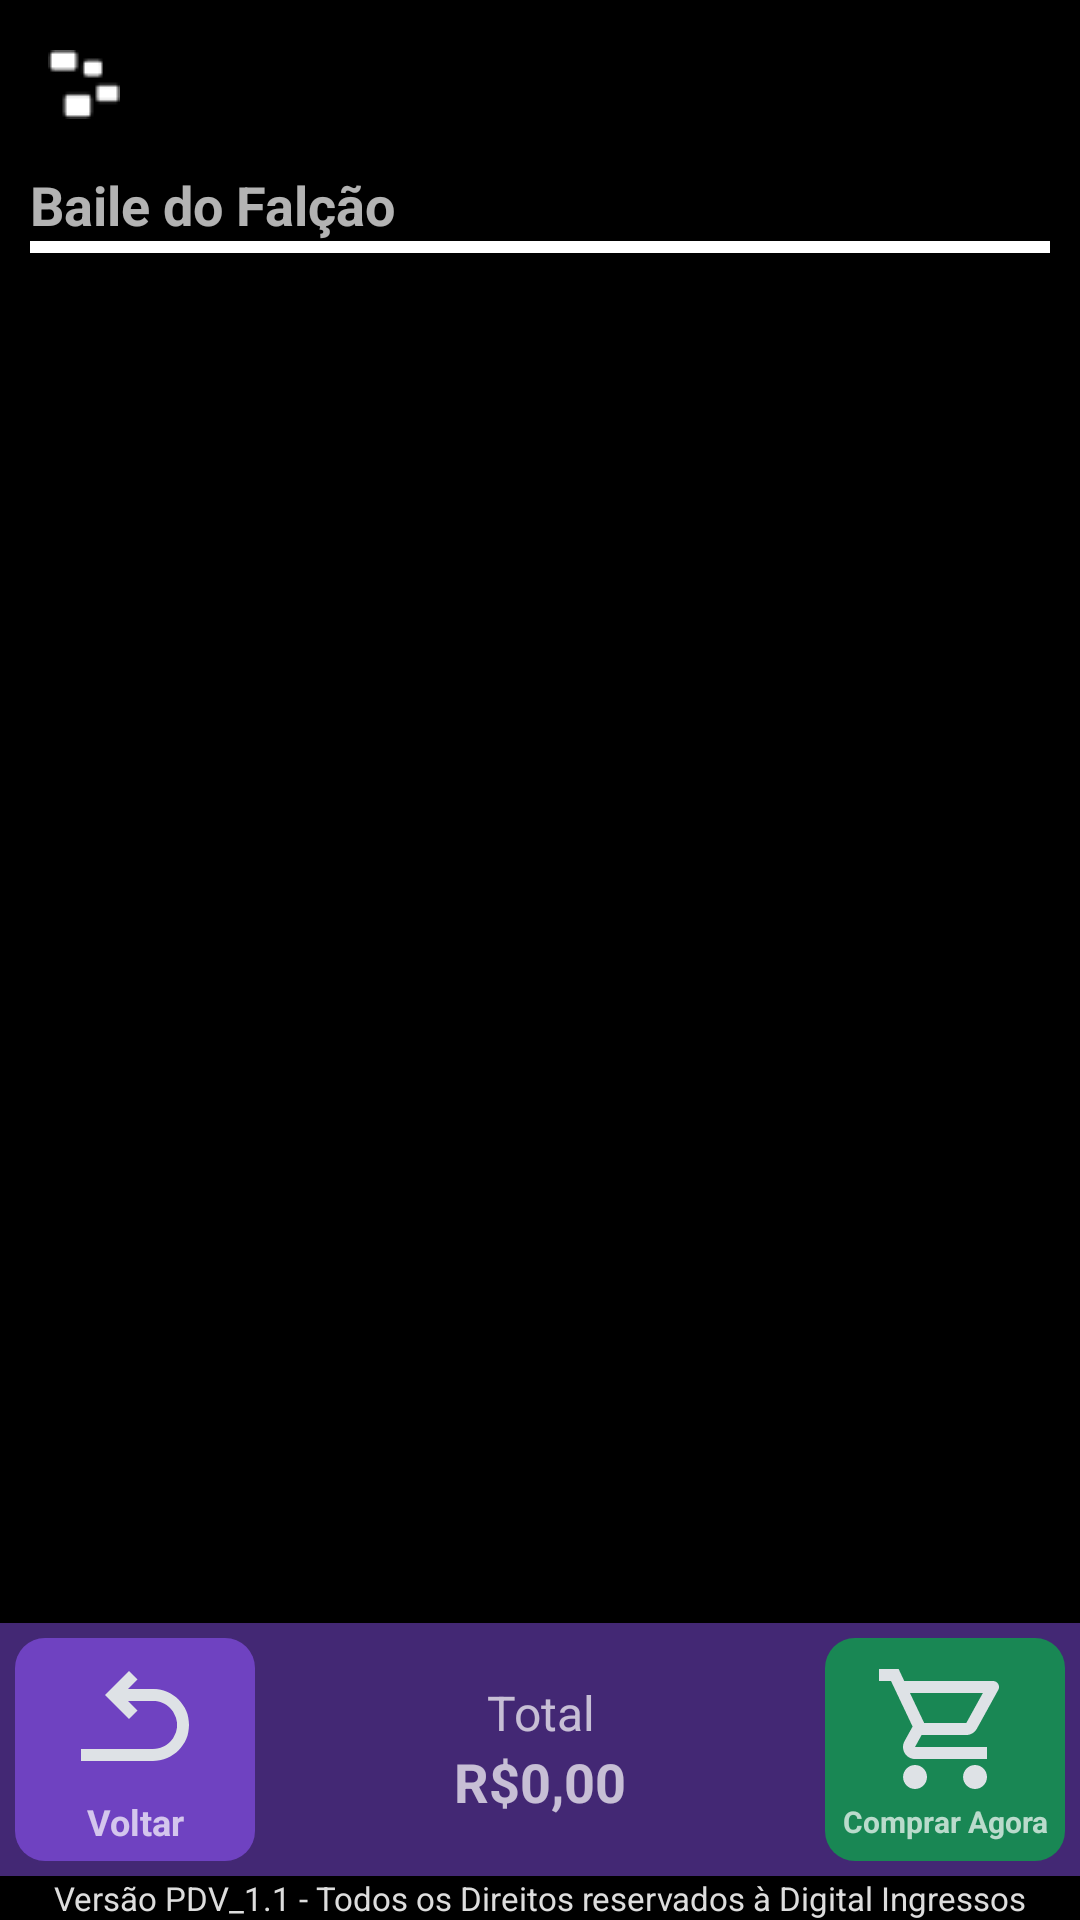

Screen size 1080×1920. Icon name, then its box in pixels as Rect(x1, y1, x2, y2):
shopping cart: Rect(879, 1669, 999, 1789)
